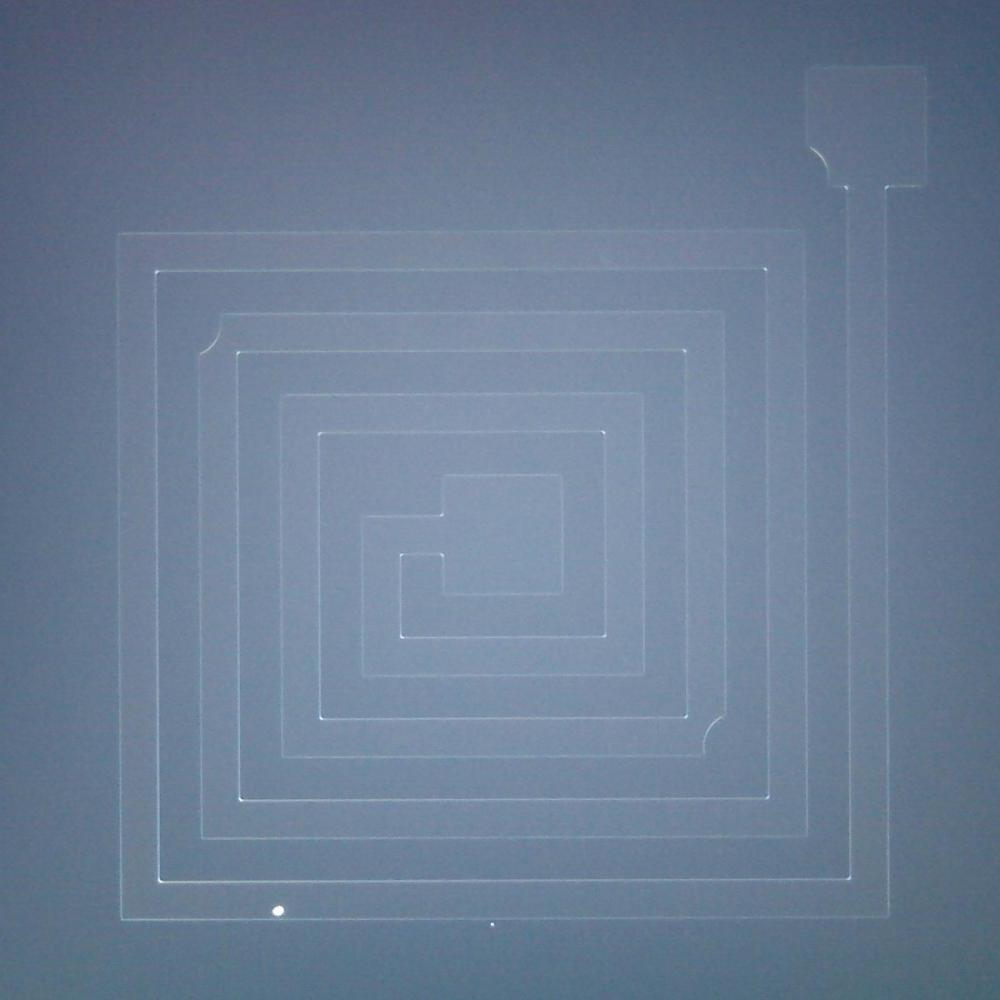curve circuit: (792, 138, 842, 198), (182, 304, 229, 366), (692, 707, 735, 767)
dot: (479, 912, 507, 935)
spot: (262, 896, 293, 924)
